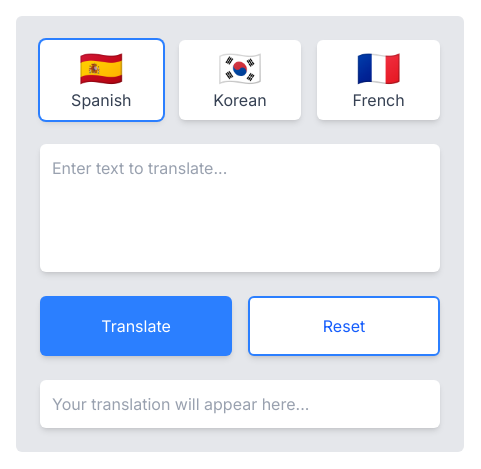
Test: checks if the textbox clears when the user clicks the reset button
Type "Test input" into the text box at (240, 208), box [40,144,440,272]
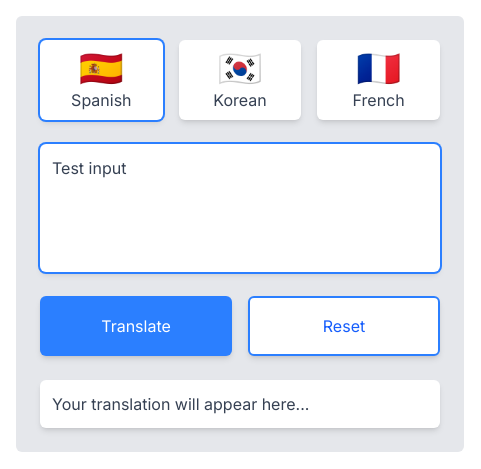
Click the button "Reset" at (344, 326), box [248,296,440,356]
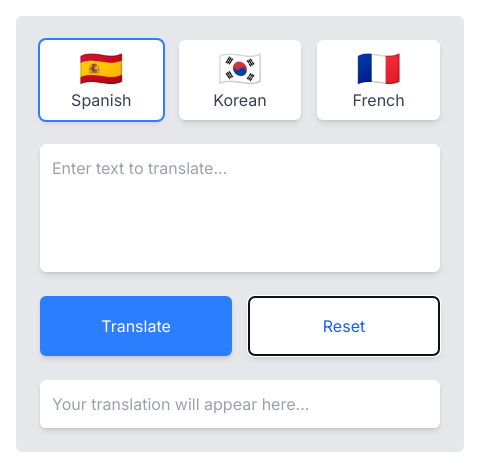
Now the text box is empty, box [40,144,440,272]
